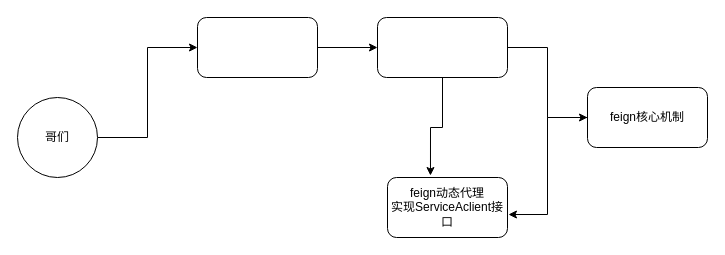
Image size: 725x255. Some labels were removed from this diagram. The shapes that lost their labels are listed below. From the top down, each one's box as (x1, y1, x2, y2) in pixels, then its label:
(196, 16, 318, 78): ServiceBController
(376, 16, 508, 78): ServiceAController接口 @FeignClient
